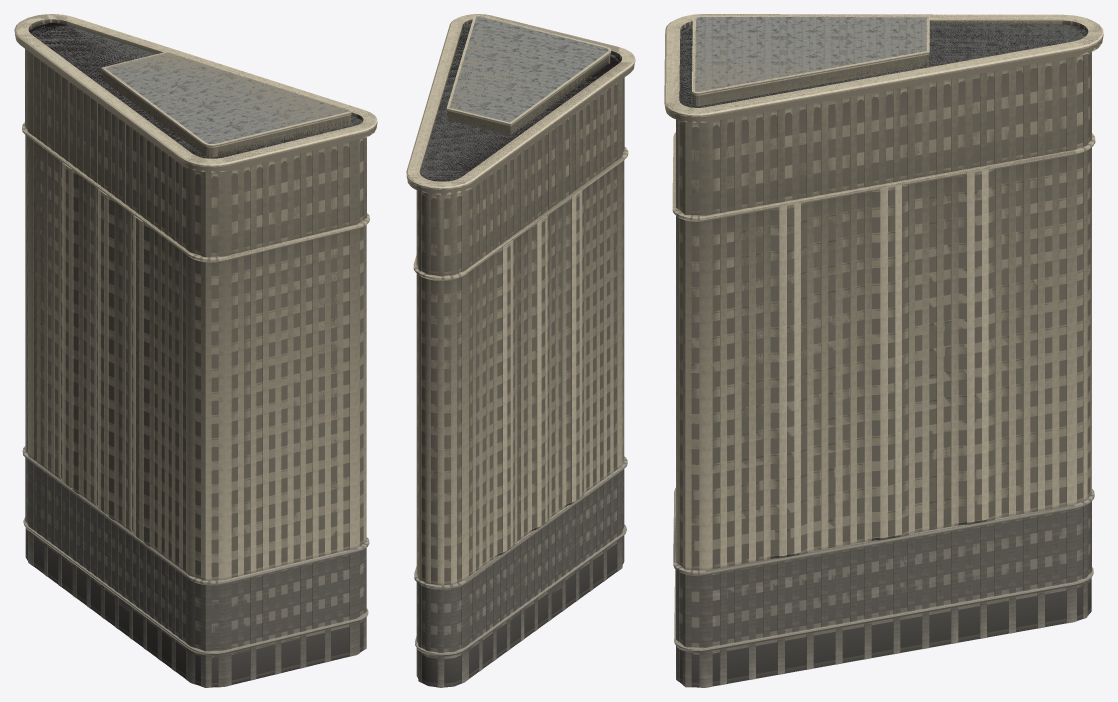
File: flatiron.glb
3 renders of one model, left to right at view 1: azimuth 30°, elevation 25°; view 2: azimuth 150°, elevation 25°; view 3: azimuth 270°, elevation 25°, orthographic. The views are drawn at different scales.
Visible parts, largest first — view 1: flatiron, flatiron_far; view 2: flatiron, flatiron_far; view 3: flatiron, flatiron_far.
Boxes of the visible parts, left/top/right/bottom form: flatiron: left=14, top=14, right=377, bottom=687; flatiron_far: left=15, top=14, right=377, bottom=687; flatiron: left=406, top=14, right=635, bottom=687; flatiron_far: left=407, top=14, right=634, bottom=687; flatiron: left=664, top=14, right=1103, bottom=687; flatiron_far: left=664, top=14, right=1103, bottom=687.
Bounding box in the file's own units: 32.05 × 87 × 58.85.
8 materials, 7 textured.
